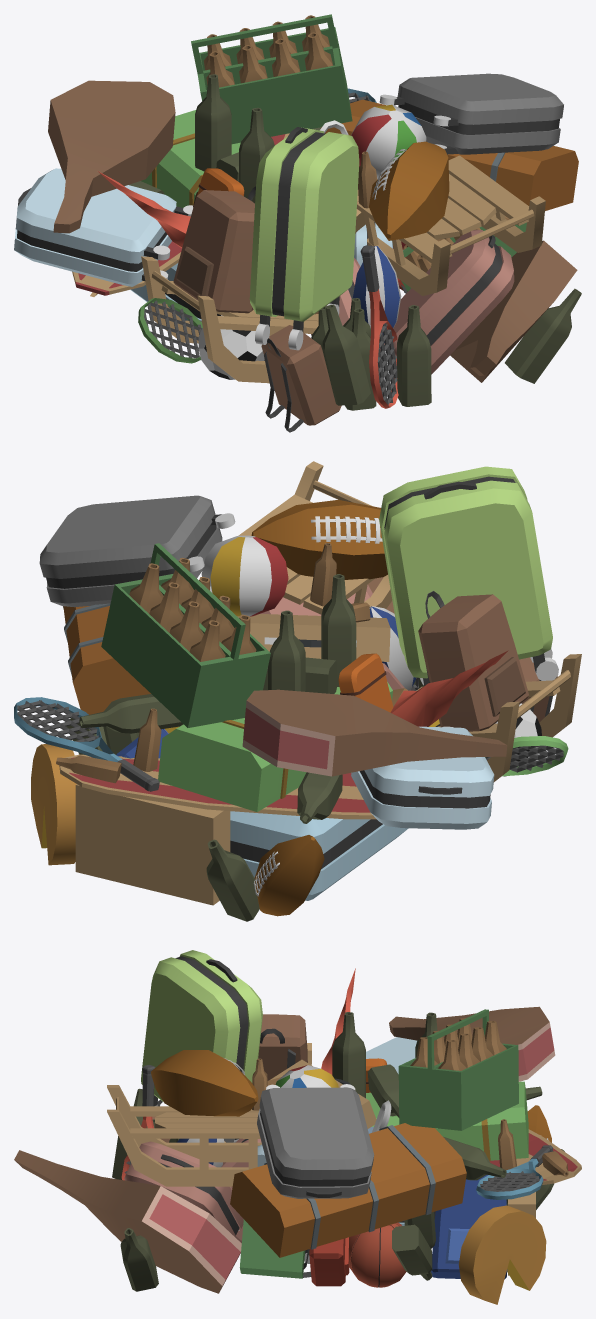
The model's file is Groupe_Bagage_35.fbx.
The picture shows the model from 3 angles, top to bottom: view 1: azimuth 30°, elevation 25°; view 2: azimuth 150°, elevation 25°; view 3: azimuth 270°, elevation 25°; orthographic projection. The views are drawn at different scales.
Parts seen in each view (by area): view 1: Groupe_Bagage_35; view 2: Groupe_Bagage_35; view 3: Groupe_Bagage_35.
Part boxes in pixels (x1,y1,x2,y2): Groupe_Bagage_35: (14,14,581,432); Groupe_Bagage_35: (14,461,581,921); Groupe_Bagage_35: (14,950,581,1304).
Size of the model in its own units: 298 by 167 by 340.
1 material, 1 textured.
